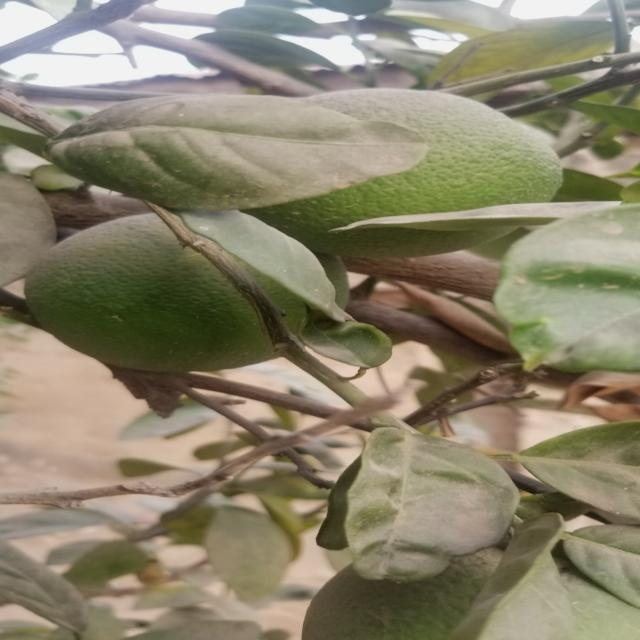agrume: (248, 86, 562, 262), (17, 213, 323, 371)
